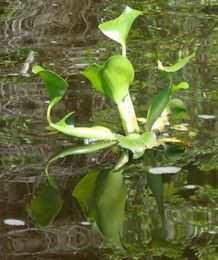water_hyacinth: (19, 5, 190, 150)
